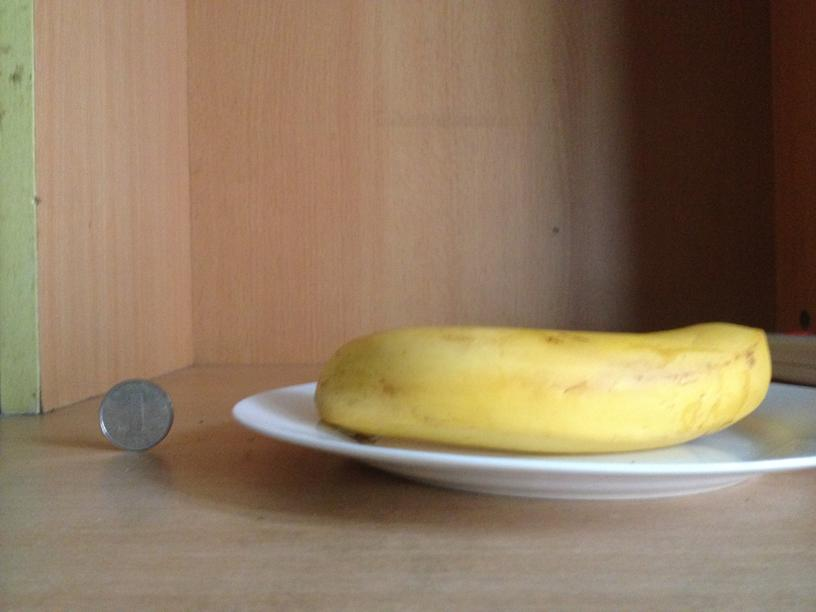banana: (315, 324, 770, 453)
coin: (98, 379, 173, 450)
